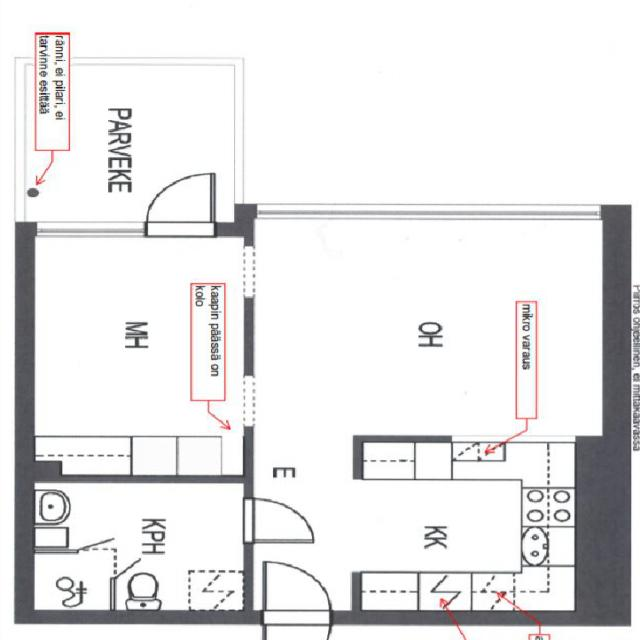door: (148, 165, 214, 236), (263, 554, 329, 625), (243, 498, 304, 542)
